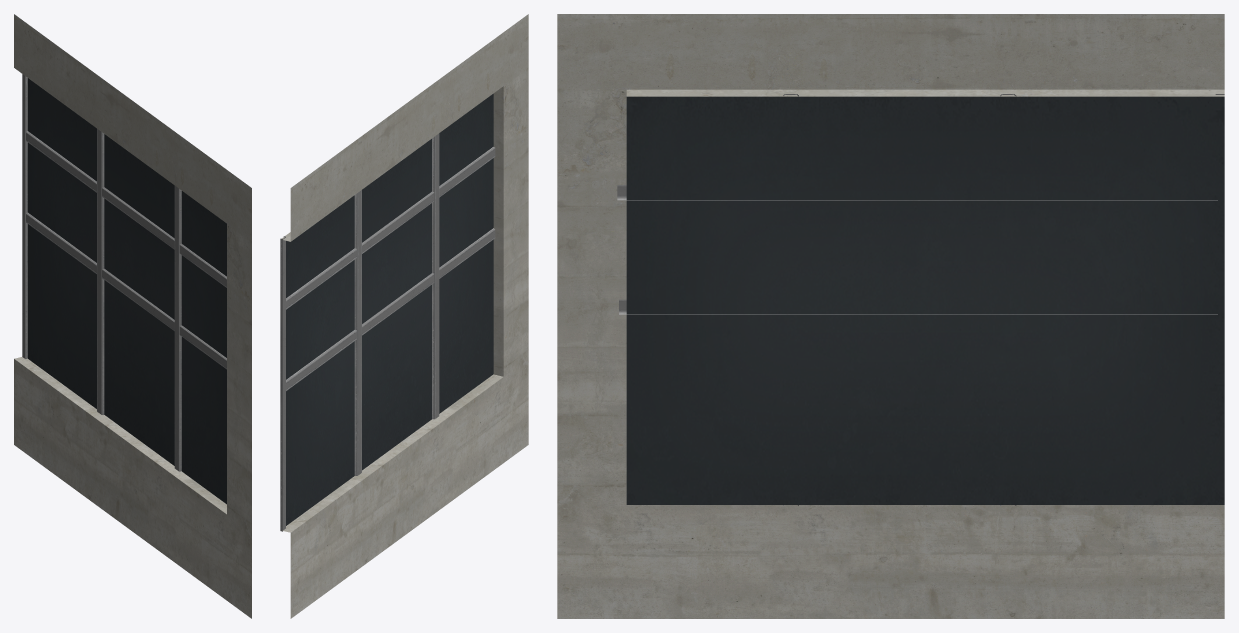
File: HH_Hospital_Showcase_4m_03.fbx
3 renders of one model, left to right at view 1: azimuth 30°, elevation 25°; view 2: azimuth 150°, elevation 25°; view 3: azimuth 270°, elevation 25°, orthographic. The views are drawn at different scales.
Visible parts, largest first — view 1: HH_Hospital_Showcase_4m_03; view 2: HH_Hospital_Showcase_4m_03; view 3: HH_Hospital_Showcase_4m_03.
Part boxes in pixels (x1,y1,x2,y2): HH_Hospital_Showcase_4m_03: (14,14,251,618); HH_Hospital_Showcase_4m_03: (280,14,528,618); HH_Hospital_Showcase_4m_03: (557,14,1224,618).
Size of the model in its own units: 10.27 by 400 by 400.
